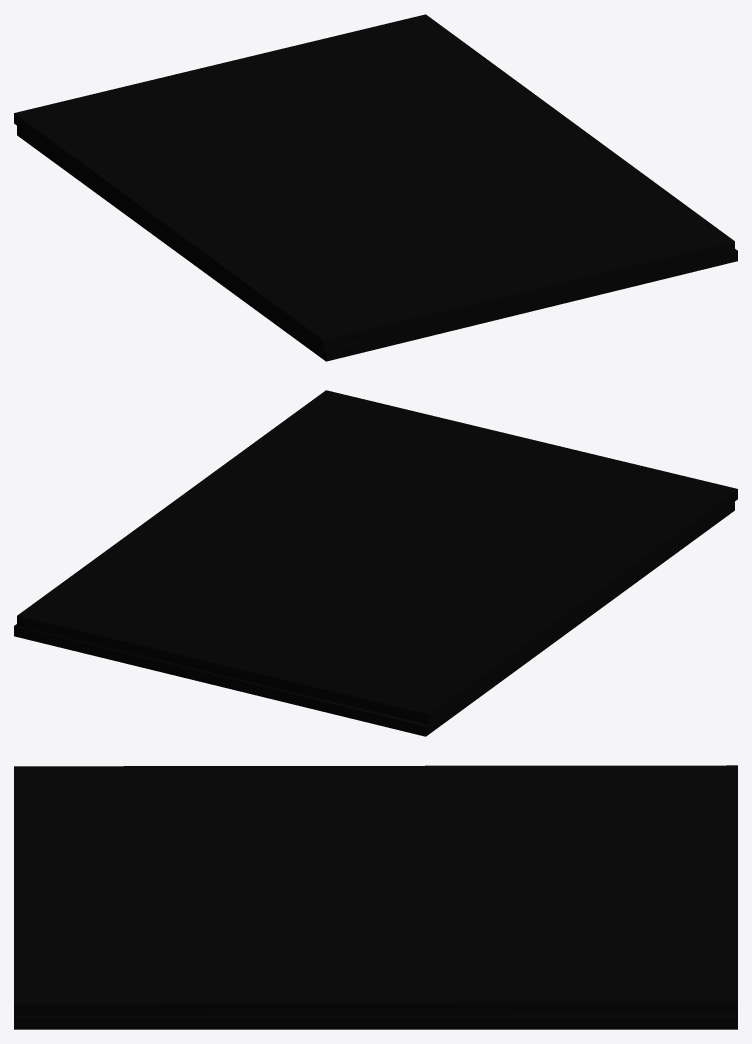
File: laptop.gltf
3 views of the same model, one above another, from view 1: azimuth 30°, elevation 25°; view 2: azimuth 150°, elevation 25°; view 3: azimuth 270°, elevation 25° (orthographic). The views are drawn at different scales.
Visible parts, largest first — view 1: Chassis, Boitier; view 2: Chassis, Boitier; view 3: Chassis, Boitier.
Part boxes in pixels (x1,y1,x2,y2): Chassis: (14, 14, 734, 350); Boitier: (17, 126, 737, 361); Chassis: (17, 390, 737, 724); Boitier: (14, 502, 734, 736); Chassis: (14, 765, 737, 1015); Boitier: (14, 1015, 737, 1029).
Size of the model in its own units: 2.01 by 0.1067 by 2.6.
4 materials, 2 textured.
